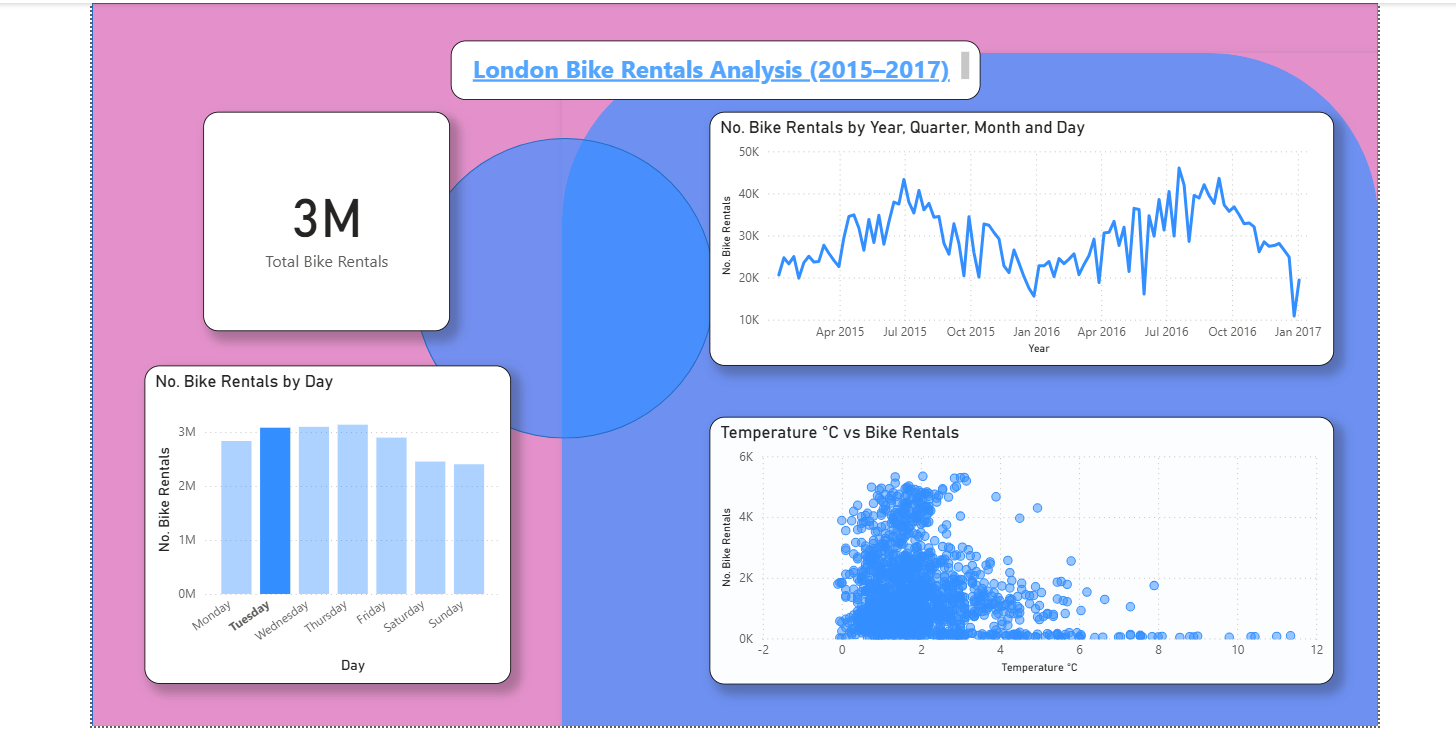

The page's visual inventory and layout, read from the dashboard file:
{"tool":"powerbi","page":{"name":"Page 1","canvas":[1280,720],"ordinal":0},"visuals":[{"type":"shape","box":[0,0,1280.3,720.4],"z":1000},{"type":"shape","box":[467.9,49.4,812.4,671],"z":1750},{"type":"shape","box":[321.1,134.5,299.1,299.1],"z":1875},{"type":"lineChart","fields":{"Y":["Sum(london_merged.cnt)"],"Category":["london_merged.Date.Variation.Date Hierarchy.Year","london_merged.Date.Variation.Date Hierarchy.Quarter","london_merged.Date.Variation.Date Hierarchy.Month","london_merged.Date.Variation.Date Hierarchy.Day"]},"box":[614.8,108.4,621.6,252.5],"z":2000},{"type":"columnChart","fields":{"Y":["Sum(london_merged.cnt)"],"Category":["london_merged.Weekday"]},"box":[52.1,360.9,365,317],"z":3000},{"type":"card","fields":{"Values":["Sum(london_merged.cnt)"]},"box":[111.1,108.4,245.6,218.2],"z":4000},{"type":"scatterChart","title":"Temperature °C vs Bike Rentals","fields":{"Y":["Sum(london_merged.cnt)"],"X":["Sum(london_merged.Temperature_C)"]},"box":[614.8,411.7,621.6,266.2],"z":5000},{"type":"textbox","box":[356.8,37,526.9,59],"z":6500}]}

Visuals, with their boxes in screenshot pixels (x1, y1, x2, y2):
shape: x1=87 y1=0 x2=1370 y2=722
shape: x1=556 y1=50 x2=1370 y2=722
shape: x1=409 y1=135 x2=709 y2=435
lineChart - Sum(london_merged.cnt) x london_merged.Date.Variation.Date Hierarchy.Year: x1=703 y1=109 x2=1326 y2=362
columnChart - Sum(london_merged.cnt) x london_merged.Weekday: x1=139 y1=362 x2=505 y2=679
card - Sum(london_merged.cnt): x1=199 y1=109 x2=445 y2=327
"Temperature °C vs Bike Rentals" scatterChart: x1=703 y1=413 x2=1326 y2=679
textbox: x1=445 y1=37 x2=973 y2=96
